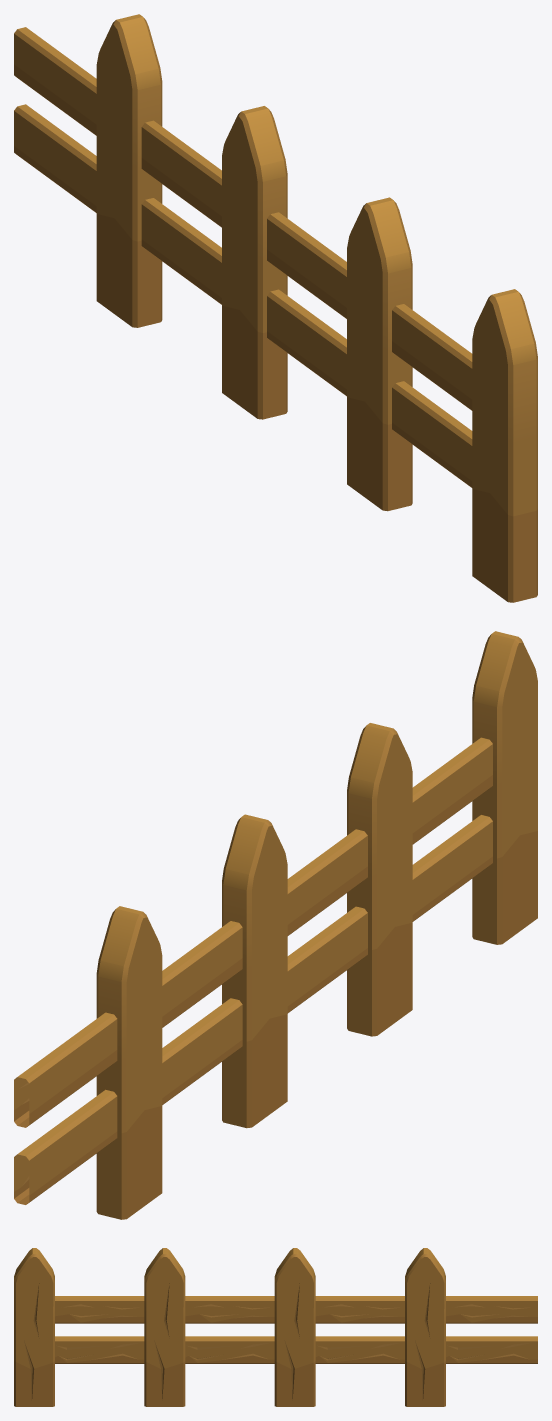
Rendered from fence2.fbx.
3 renders of one model, top to bottom at view 1: azimuth 30°, elevation 25°; view 2: azimuth 150°, elevation 25°; view 3: azimuth 270°, elevation 25°, orthographic. The views are drawn at different scales.
Parts seen in each view (by area): view 1: Cube.010; view 2: Cube.010; view 3: Cube.010.
Part boxes in pixels (bbox=[...]): Cube.010: bbox=[14, 14, 537, 602]; Cube.010: bbox=[14, 631, 537, 1219]; Cube.010: bbox=[14, 1248, 537, 1406].
Bounding box in the file's own units: 8.11 × 75.49 × 236.
